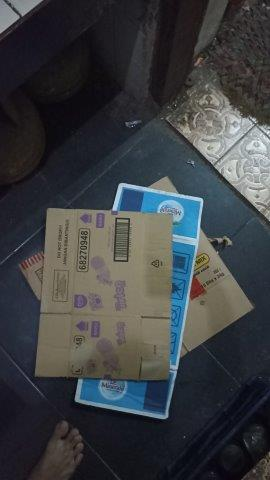kardus: (20, 179, 253, 418)
